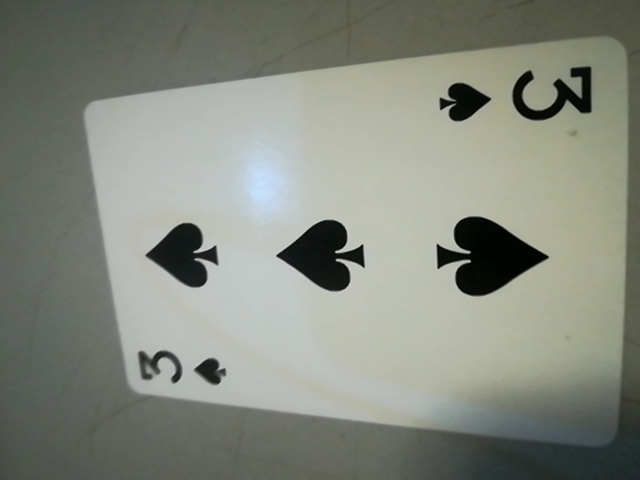ht 3: (426, 59, 609, 136)
